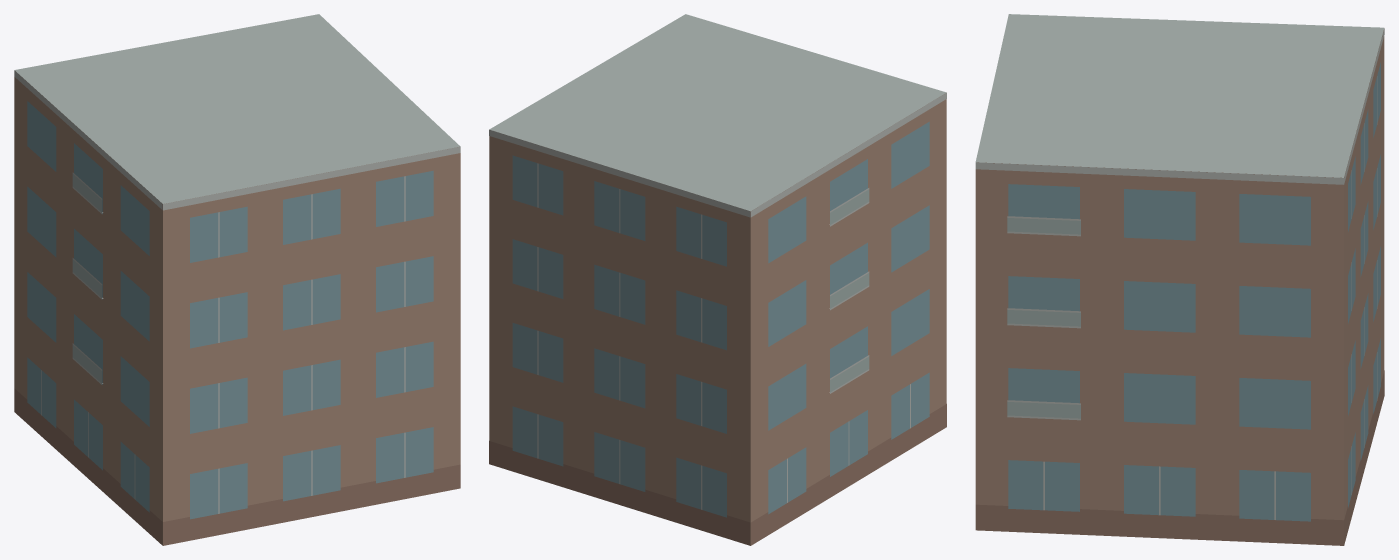
Rendered from survey-upis-33047416.glb.
3 renders of one model, left to right at view 1: azimuth 30°, elevation 25°; view 2: azimuth 150°, elevation 25°; view 3: azimuth 270°, elevation 25°, orthographic. The views are drawn at different scales.
Parts seen in each view (by area): view 1: survey-upis-33047416.tmp; view 2: survey-upis-33047416.tmp; view 3: survey-upis-33047416.tmp.
Boxes of the visible parts, x1,y1,x2,y2 form: survey-upis-33047416.tmp: (14,14,460,545); survey-upis-33047416.tmp: (489,14,946,545); survey-upis-33047416.tmp: (975,14,1384,545).
Bounding box in the file's own units: 12.33 × 12.9 × 13.
